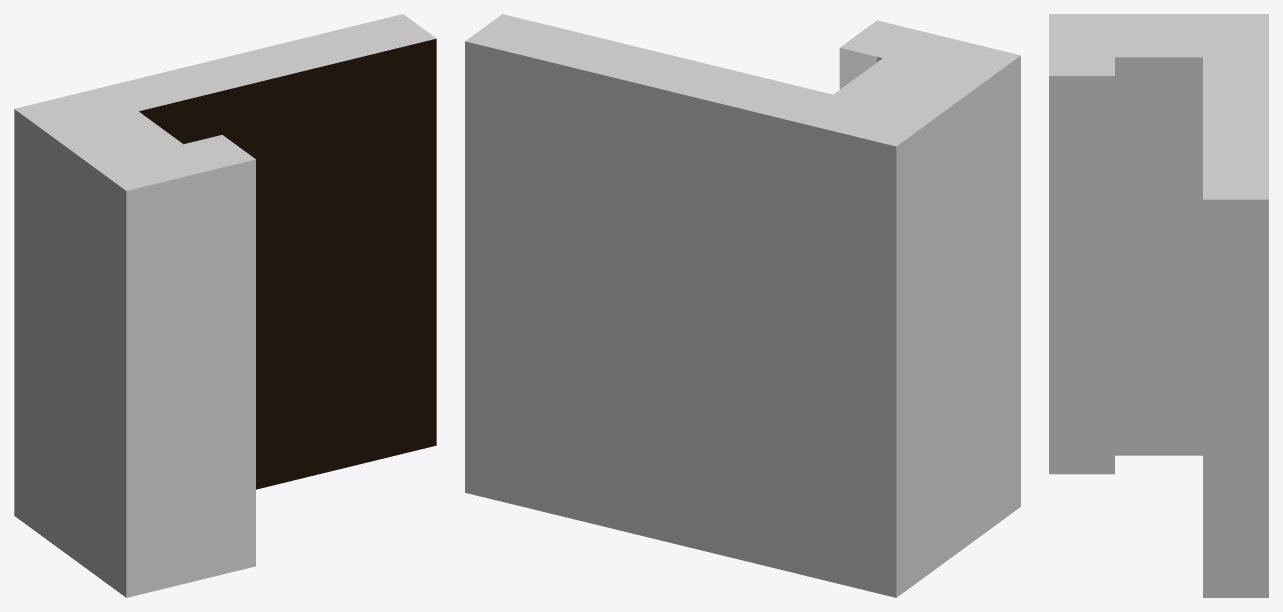
Rendered from block_wall.fbx.
The picture shows the model from 3 angles, left to right: view 1: azimuth 30°, elevation 25°; view 2: azimuth 150°, elevation 25°; view 3: azimuth 270°, elevation 25°; orthographic projection. The views are drawn at different scales.
Visible parts, largest first — view 1: block_wall; view 2: block_wall; view 3: block_wall.
Part boxes in pixels (bbox=[...]): block_wall: bbox=[14, 14, 436, 597]; block_wall: bbox=[465, 14, 1020, 597]; block_wall: bbox=[1049, 14, 1268, 597].
Size of the model in its own units: 0.2 by 0.2 by 0.1.
